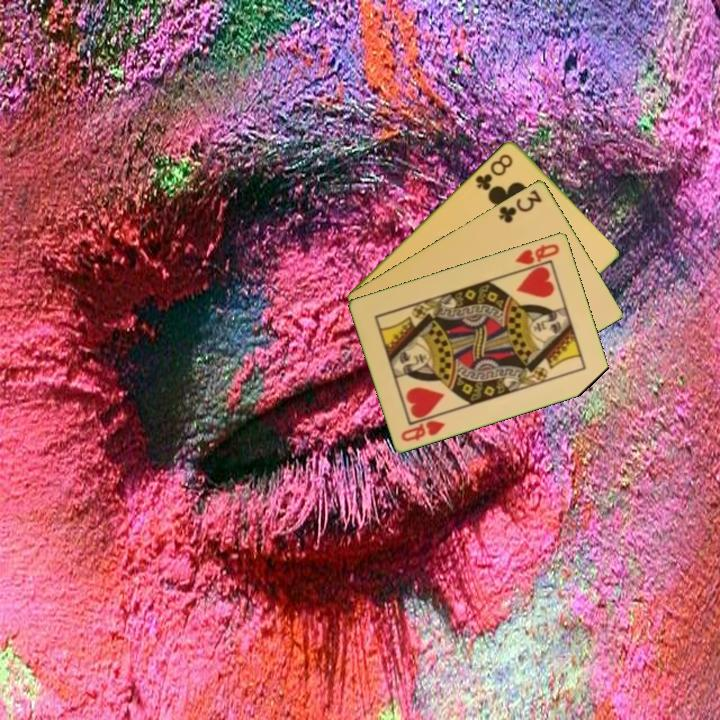3c: (495, 186, 545, 226)
8c: (472, 150, 516, 193)
Qh: (512, 240, 562, 273), (398, 416, 448, 444)
